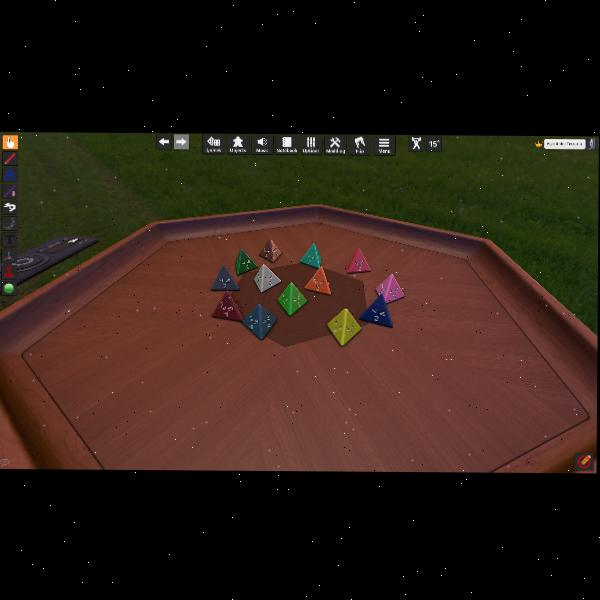d4: (241, 303, 276, 341), (326, 308, 359, 345), (360, 293, 393, 326), (212, 290, 244, 321), (375, 272, 405, 304), (277, 283, 304, 316), (254, 263, 282, 293), (210, 264, 240, 291), (303, 267, 329, 296), (235, 248, 259, 275), (347, 248, 371, 274), (260, 237, 283, 263), (300, 242, 322, 268)
